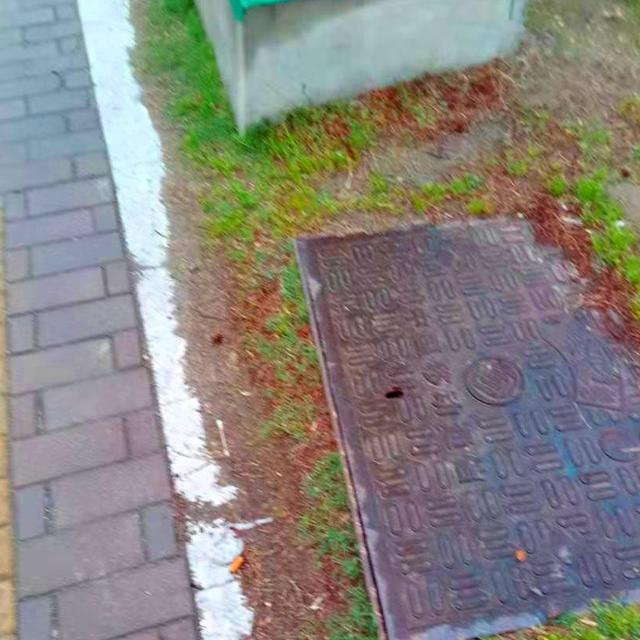good: (296, 218, 640, 640)
